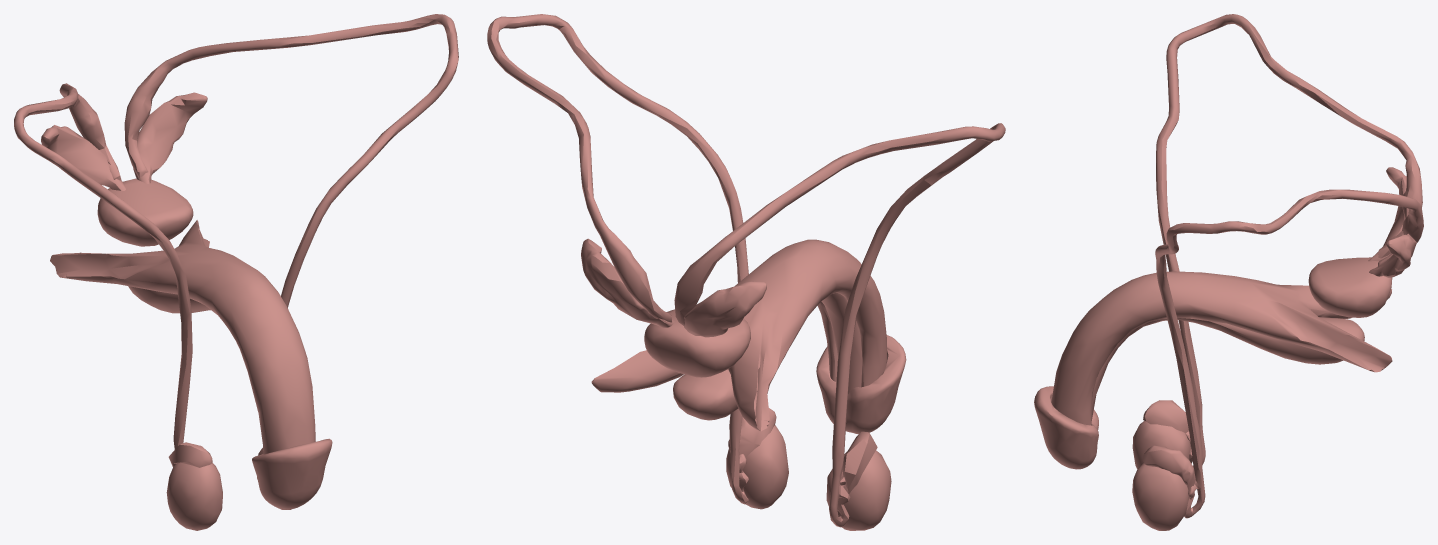
Rendered from genital.glb.
3 renders of one model, left to right at view 1: azimuth 30°, elevation 25°; view 2: azimuth 150°, elevation 25°; view 3: azimuth 270°, elevation 25°, orthographic. The views are drawn at different scales.
Visible parts, largest first — view 1: FMA19618, FMA19236, FMA19235, FMA9600, FMA18247, FMA7211, FMA19388, FMA19387, FMA19617, FMA18256; view 2: FMA19618, FMA19235, FMA19236, FMA9600, FMA19617, FMA18247, FMA7212, FMA19387, FMA7211, FMA19388, FMA18256, FMA18257; view 3: FMA19618, FMA19235, FMA19236, FMA9600, FMA18247, FMA7212, FMA19617, FMA7211, FMA18257, FMA19388, FMA18256, FMA19387.
Part boxes in pixels (<box>): FMA19618: <box>50,220,315,454</box>; FMA19236: <box>124,14,458,307</box>; FMA19235: <box>14,83,192,449</box>; FMA9600: <box>97,178,193,246</box>; FMA18247: <box>252,438,332,509</box>; FMA7211: <box>166,462,222,530</box>; FMA19388: <box>133,92,207,183</box>; FMA19387: <box>41,125,125,190</box>; FMA19617: <box>128,286,210,313</box>; FMA18256: <box>168,442,212,467</box>; FMA19618: <box>591,239,886,431</box>; FMA19235: <box>674,123,1005,527</box>; FMA19236: <box>487,14,748,504</box>; FMA9600: <box>644,309,750,377</box>; FMA19617: <box>673,293,862,420</box>; FMA18247: <box>816,335,906,434</box>; FMA7212: <box>726,425,788,509</box>; FMA19387: <box>684,281,766,337</box>; FMA7211: <box>826,450,891,530</box>; FMA19388: <box>581,238,674,327</box>; FMA18256: <box>842,431,877,493</box>; FMA18257: <box>728,408,776,457</box>; FMA19618: <box>1051,271,1392,425</box>; FMA19235: <box>1156,14,1422,466</box>; FMA19236: <box>1155,189,1423,518</box>; FMA9600: <box>1308,257,1392,317</box>; FMA18247: <box>1034,386,1098,469</box>; FMA7212: <box>1132,463,1188,530</box>; FMA19617: <box>1091,317,1364,423</box>; FMA7211: <box>1132,421,1190,469</box>; FMA18257: <box>1142,445,1195,499</box>; FMA19388: <box>1369,233,1416,277</box>; FMA18256: <box>1143,400,1188,433</box>; FMA19387: <box>1368,167,1406,261</box>.
Size of the model in its own units: 0.1867 by 0.1712 by 0.1483.
